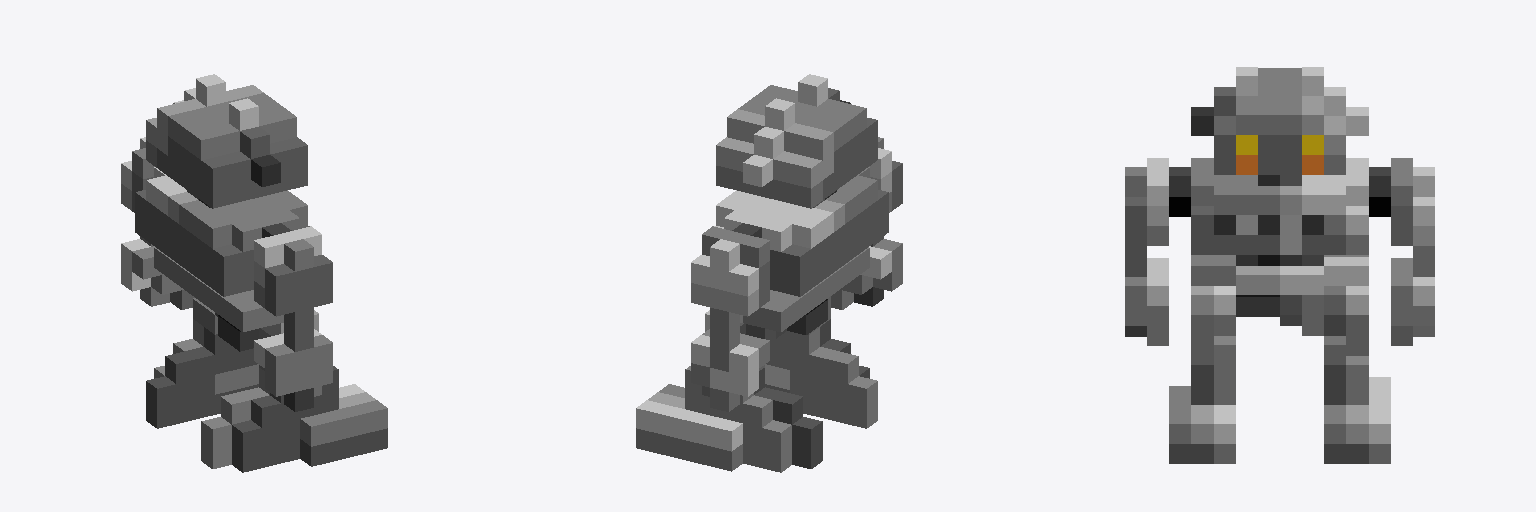
Rendered from Robot.obj.
The picture shows the model from 3 angles: view 1: azimuth 30°, elevation 25°; view 2: azimuth 150°, elevation 25°; view 3: azimuth 270°, elevation 25°; orthographic projection.
Visible parts, largest first — view 1: Robot; view 2: Robot; view 3: Robot.
Part boxes in pixels (x1,y1,x2,y2): Robot: (121, 74, 387, 472); Robot: (636, 74, 902, 472); Robot: (1125, 67, 1434, 463).
Bounding box in the file's own units: 8 × 17 × 14.